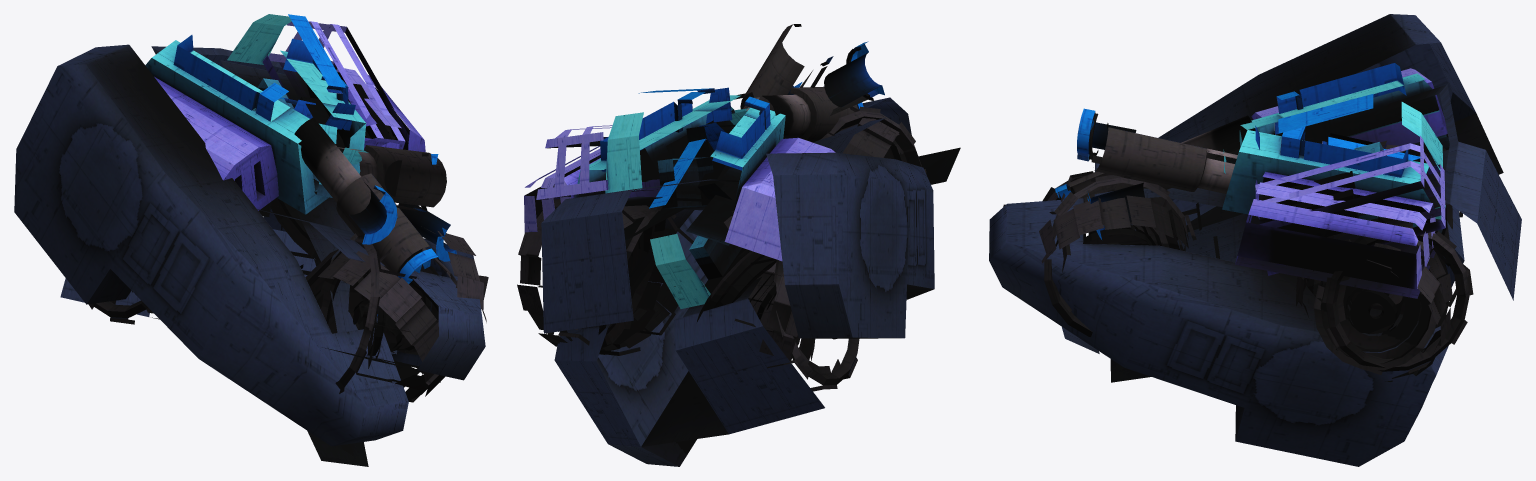
File: PlayerA_Die3.obj
3 renders of one model, left to right at view 1: azimuth 30°, elevation 25°; view 2: azimuth 150°, elevation 25°; view 3: azimuth 270°, elevation 25°, orthographic. The views are drawn at different scales.
Parts seen in each view (by area): view 1: Object001; view 2: Object001; view 3: Object001.
Part boxes in pixels (<box>): Object001: <box>14,14,488,466</box>; Object001: <box>517,24,960,466</box>; Object001: <box>989,14,1521,466</box>.
Size of the model in its own units: 97.59 by 102 by 135.
Materials: 1 (1 with a texture image).
